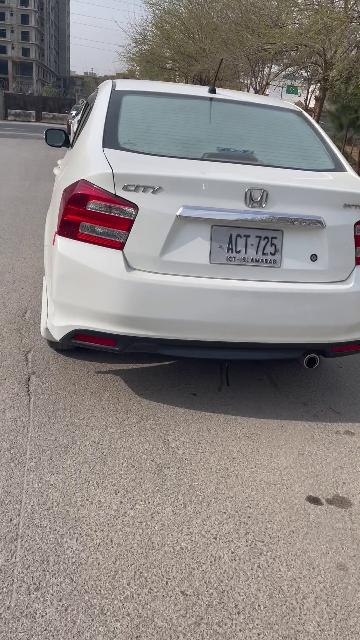plate: (209, 226, 283, 268)
